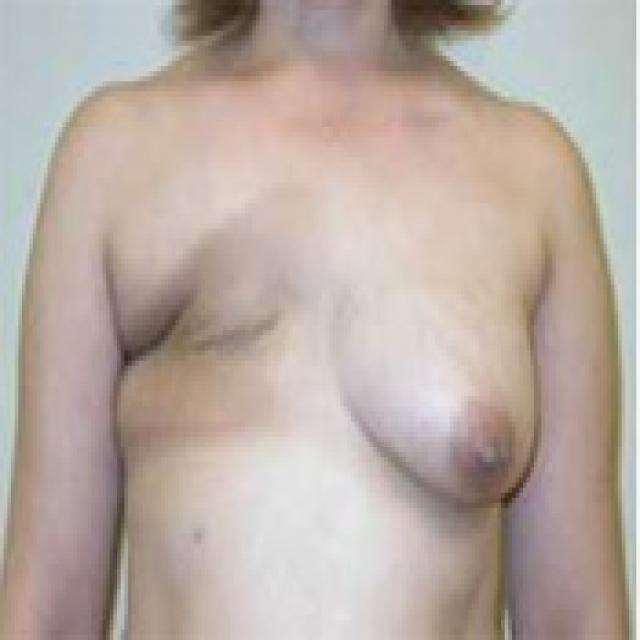Seno herido: (106, 207, 326, 541)
Seno ileso: (332, 207, 547, 541)
